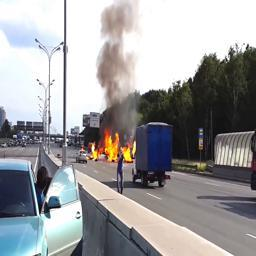fire: (90, 129, 136, 163)
